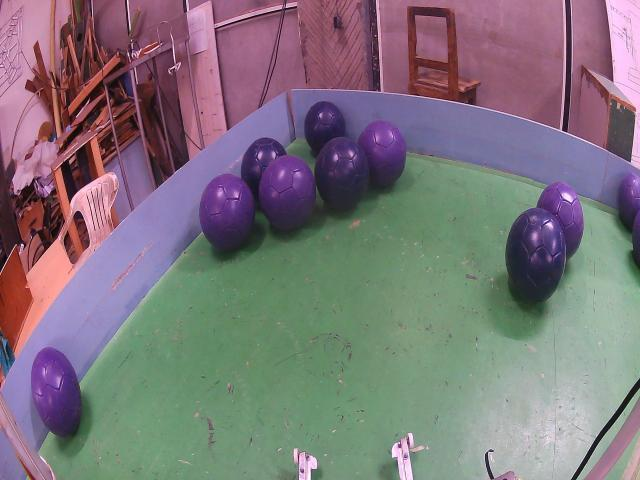jambhalya: (31, 347, 81, 437), (199, 173, 255, 250), (259, 155, 316, 230), (538, 182, 584, 258), (358, 120, 406, 187), (619, 173, 640, 230)
kaalyya: (505, 207, 566, 302), (314, 137, 369, 210), (240, 138, 286, 200), (304, 102, 345, 153)
